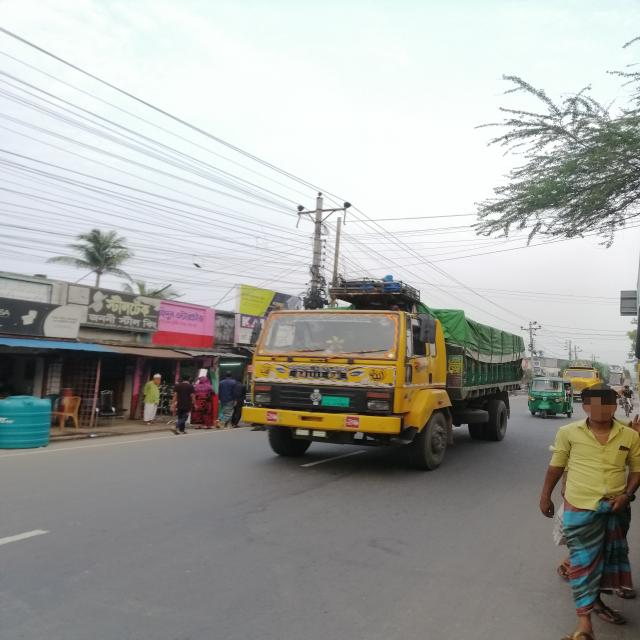CNG: (524, 371, 576, 425)
Truck: (243, 266, 529, 484)
